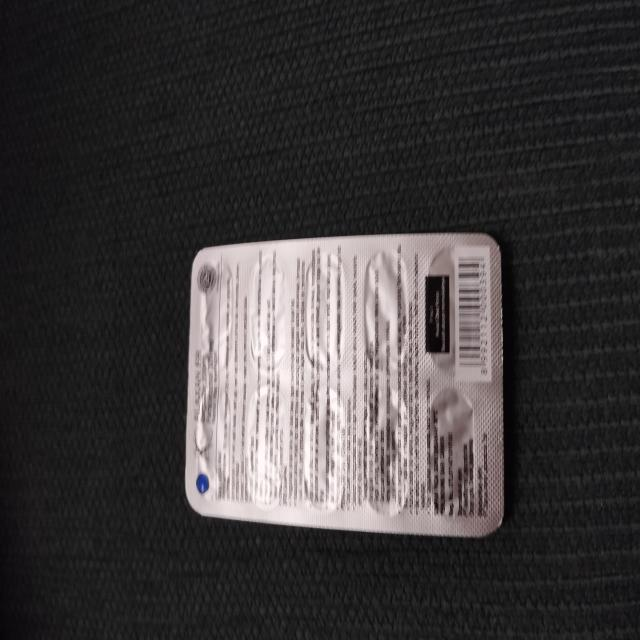B3: (185, 233, 504, 536)
